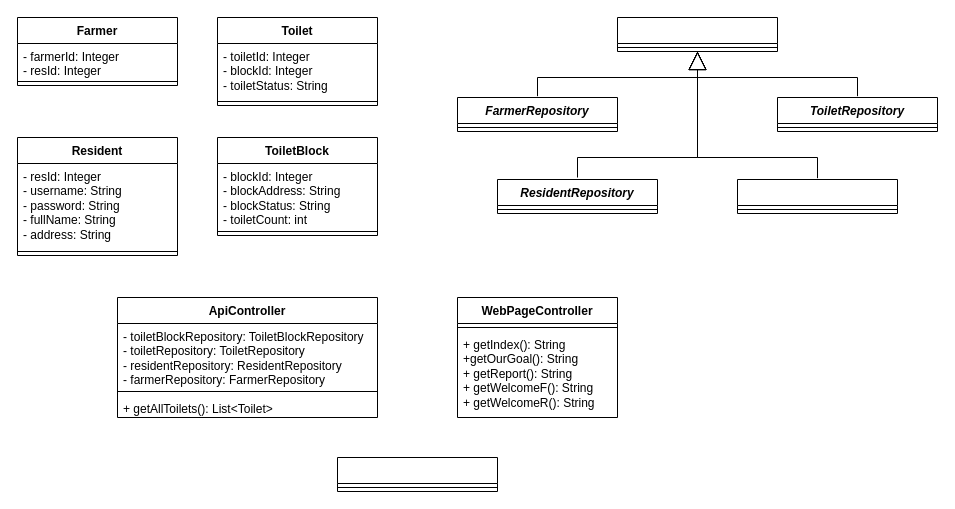
This 955x509 diagram has some shape labels left out. The shapes that lost their labels are listed below. From the top down, each one's centre as x and y in pixels, then its label:
pixel 697 34: JpaRepository
pixel 817 196: ToiletBlockRepository
pixel 417 474: SynopticprojectApplication
